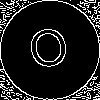O: (25, 25, 74, 79)
